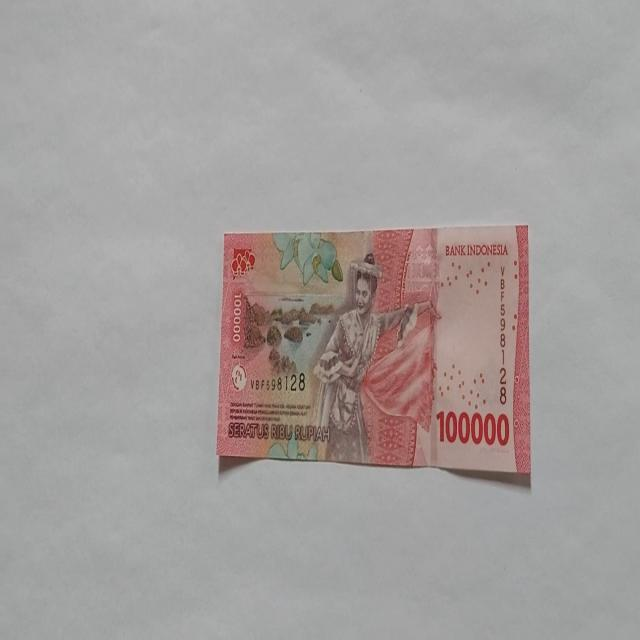seratus ribu rupiah: (215, 224, 531, 483), (309, 252, 439, 466)
